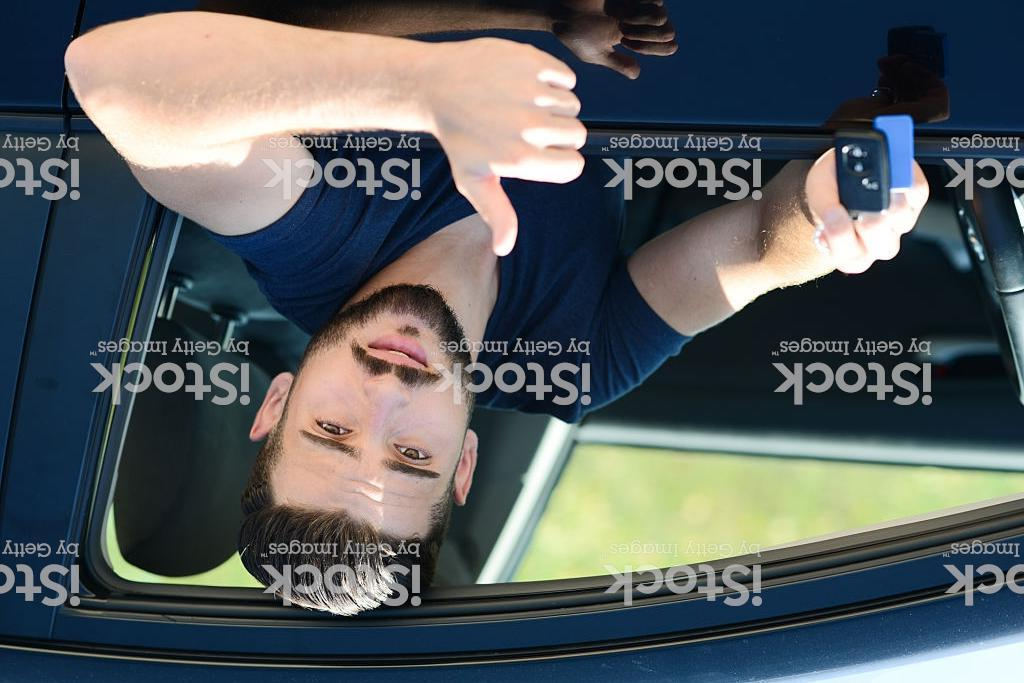thumbsdown: (438, 33, 589, 259)
